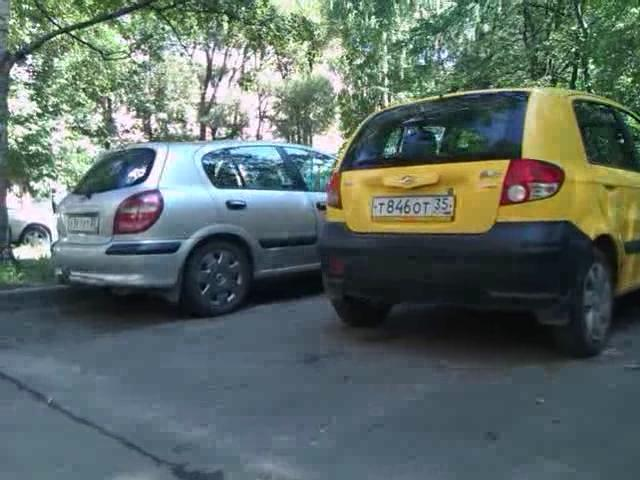car license plate: (369, 192, 456, 223), (66, 214, 101, 234)
